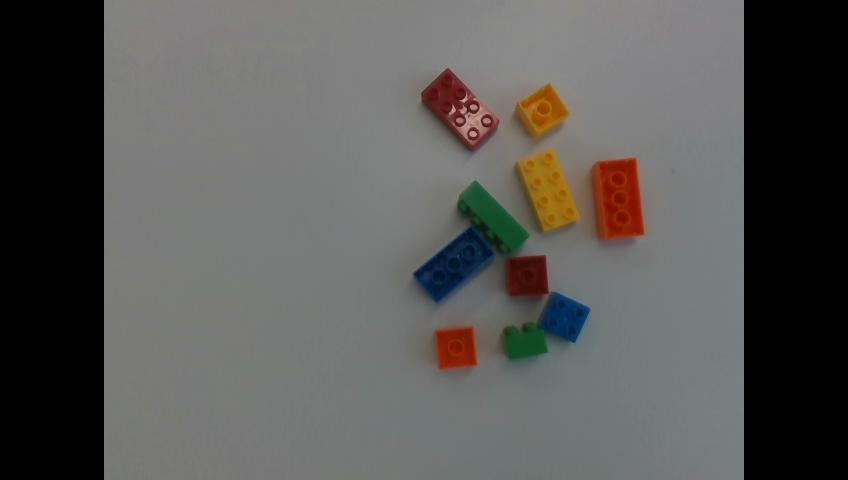2x2_blue: (539, 293, 591, 341)
2x2_green: (504, 324, 547, 359)
2x2_orange: (436, 326, 476, 368)
2x2_red: (508, 255, 547, 294)
2x2_yellow: (516, 83, 568, 137)
4x2_blue: (412, 225, 495, 300)
4x2_green: (457, 182, 528, 249)
4x2_orange: (592, 159, 644, 237)
4x2_red: (424, 68, 499, 149)
4x2_yellow: (516, 149, 579, 230)
